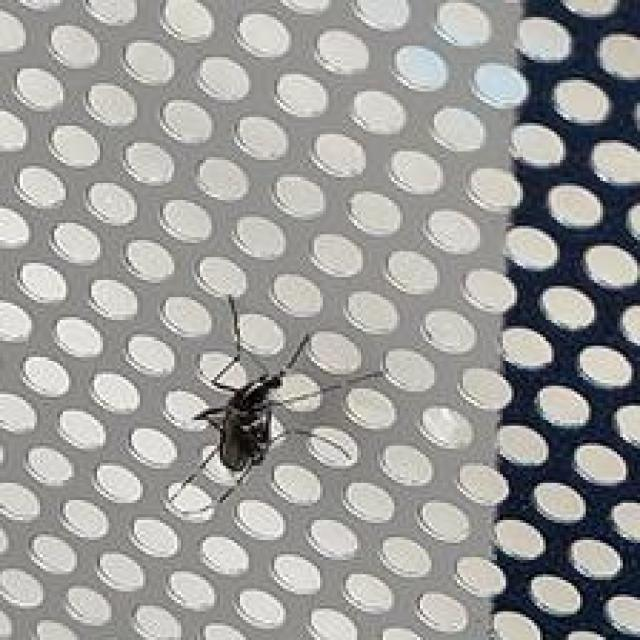Aedes albopictus: (164, 293, 387, 516)
